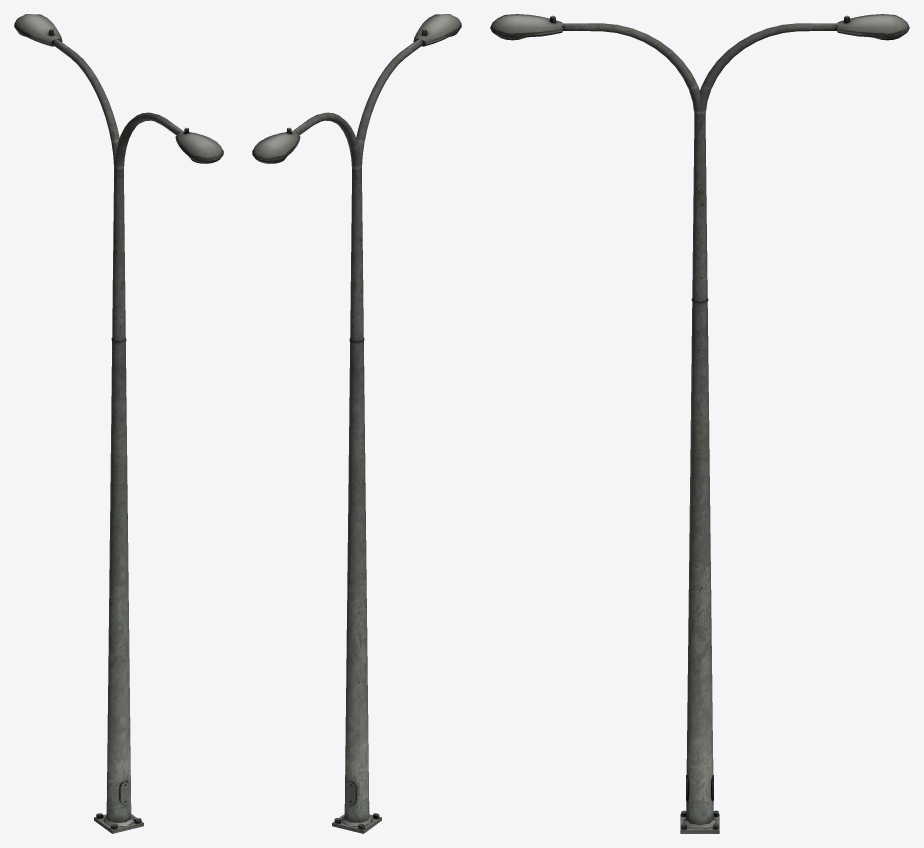
The model's file is FarolaD.fbx.
3 views of the same model, side by side, from view 1: azimuth 30°, elevation 25°; view 2: azimuth 150°, elevation 25°; view 3: azimuth 270°, elevation 25° (orthographic). The views are drawn at different scales.
Parts seen in each view (by area): view 1: FarolaD.001; view 2: FarolaD.001; view 3: FarolaD.001.
Part boxes in pixels (x1=…): FarolaD.001: x1=14, y1=14, x2=223, y2=833; FarolaD.001: x1=252, y1=14, x2=461, y2=833; FarolaD.001: x1=490, y1=14, x2=909, y2=833.
Bounding box in the file's own units: 0.408 × 9.18 × 4.32.
1 material, 1 textured.
